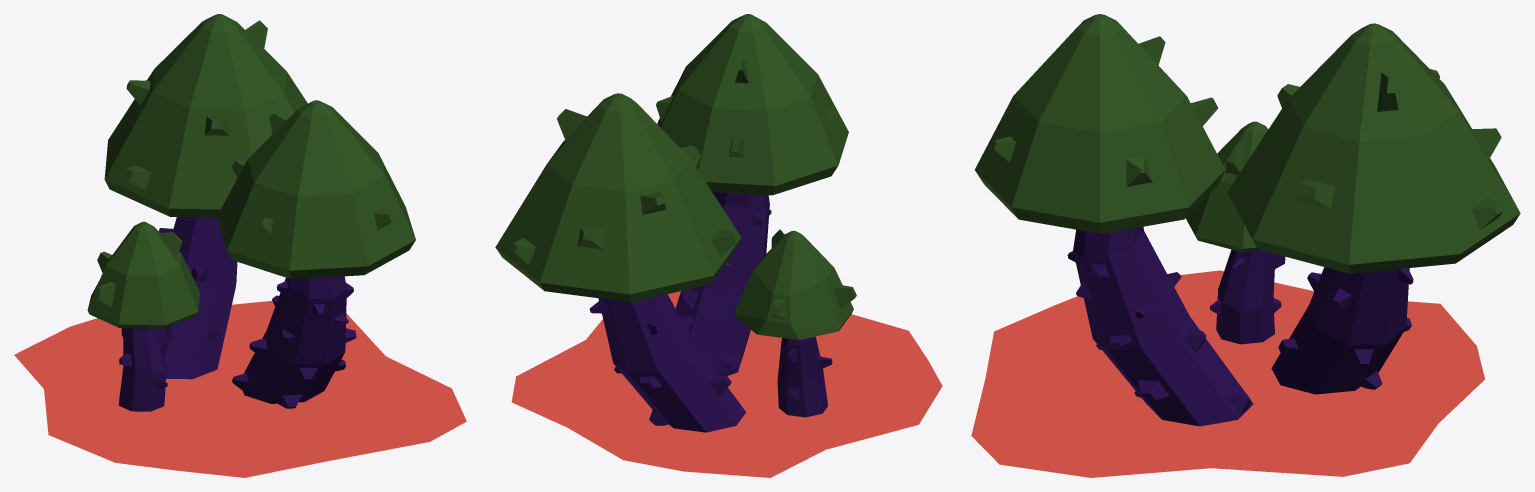
Rendered from hongos.fbx.
3 views of the same model, side by side, from view 1: azimuth 30°, elevation 25°; view 2: azimuth 150°, elevation 25°; view 3: azimuth 270°, elevation 25° (orthographic). The views are drawn at different scales.
Parts seen in each view (by area): view 1: hongos; view 2: hongos; view 3: hongos.
Boxes of the visible parts, x1=… form: hongos: x1=14, y1=14, x2=466, y2=477; hongos: x1=495, y1=14, x2=942, y2=477; hongos: x1=971, y1=14, x2=1520, y2=477.
Size of the model in its own units: 41.16 by 36.21 by 46.03.
